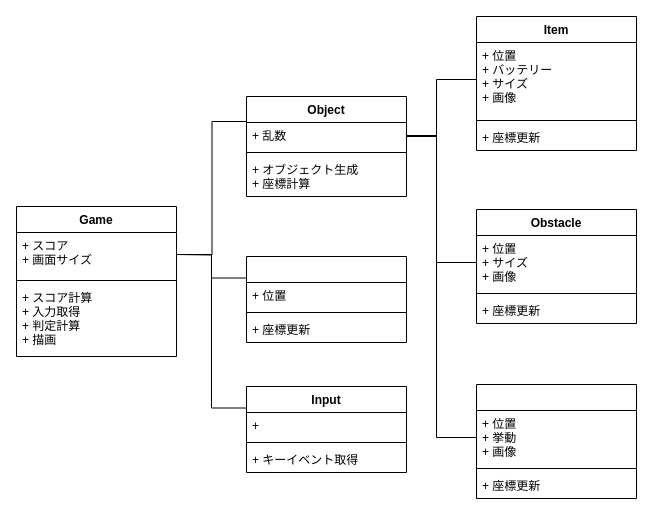
The diagram is 653 pixels wide and 515 high, and some of its shapes have lost their labels. The box of each missing label's shape, as (x1, y1, x2, y2) in pixels:
Enemy: (476, 384, 636, 498)
Player: (246, 256, 406, 342)
